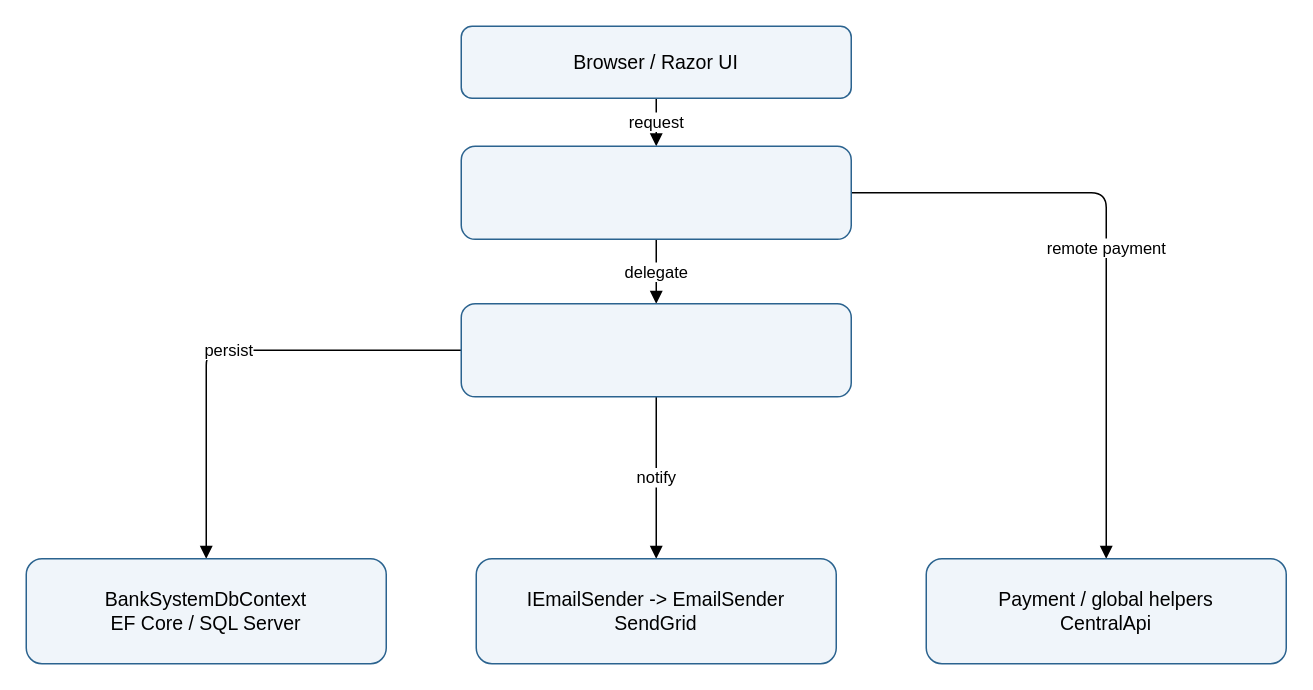
The diagram is 1313 pixels wide and 690 high, and some of its shapes have lost their labels. Here are the shapes that lost their labels. From the top down, the box of each, then its label:
(460, 145, 851, 239): Routing + Identity Controllers / Razor Pages
(460, 302, 851, 397): BankAccount / Card / User MoneyTransfer services
